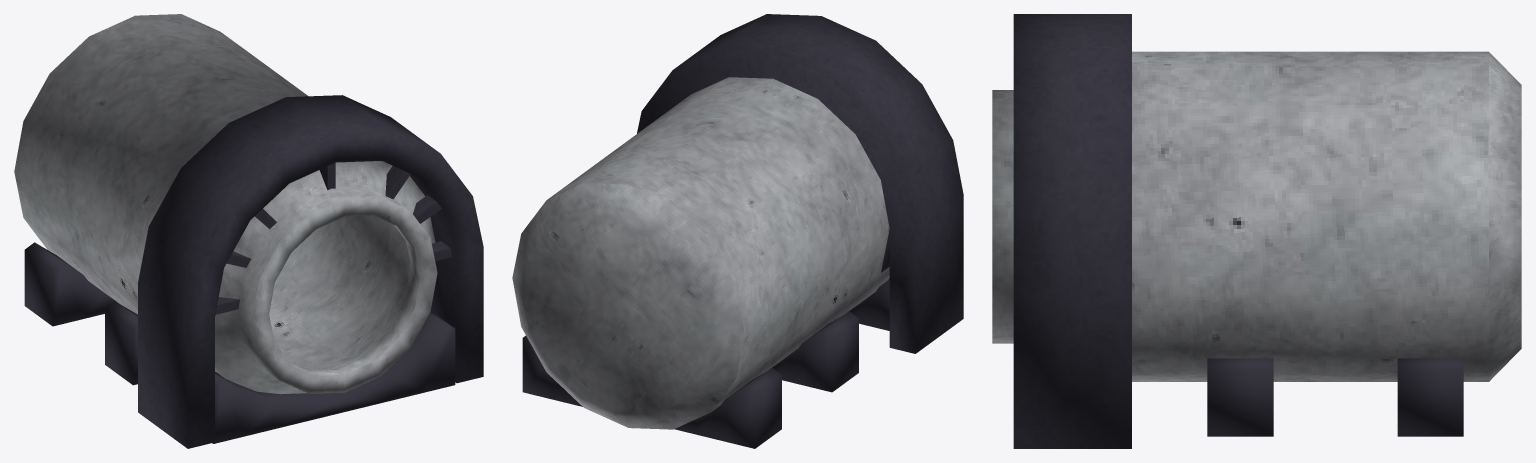
File: Factory_Crucible.glb
3 renders of one model, left to right at view 1: azimuth 30°, elevation 25°; view 2: azimuth 150°, elevation 25°; view 3: azimuth 270°, elevation 25°, orthographic. The views are drawn at different scales.
Visible parts, largest first — view 1: Factory_Crucible; view 2: Factory_Crucible; view 3: Factory_Crucible.
Part boxes in pixels (x1,y1,x2,y2): Factory_Crucible: [14, 14, 483, 448]; Factory_Crucible: [512, 14, 963, 448]; Factory_Crucible: [992, 14, 1521, 448].
Bounding box in the file's own units: 4.89 × 4.45 × 6.4.
Materials: 2 (2 with a texture image).
